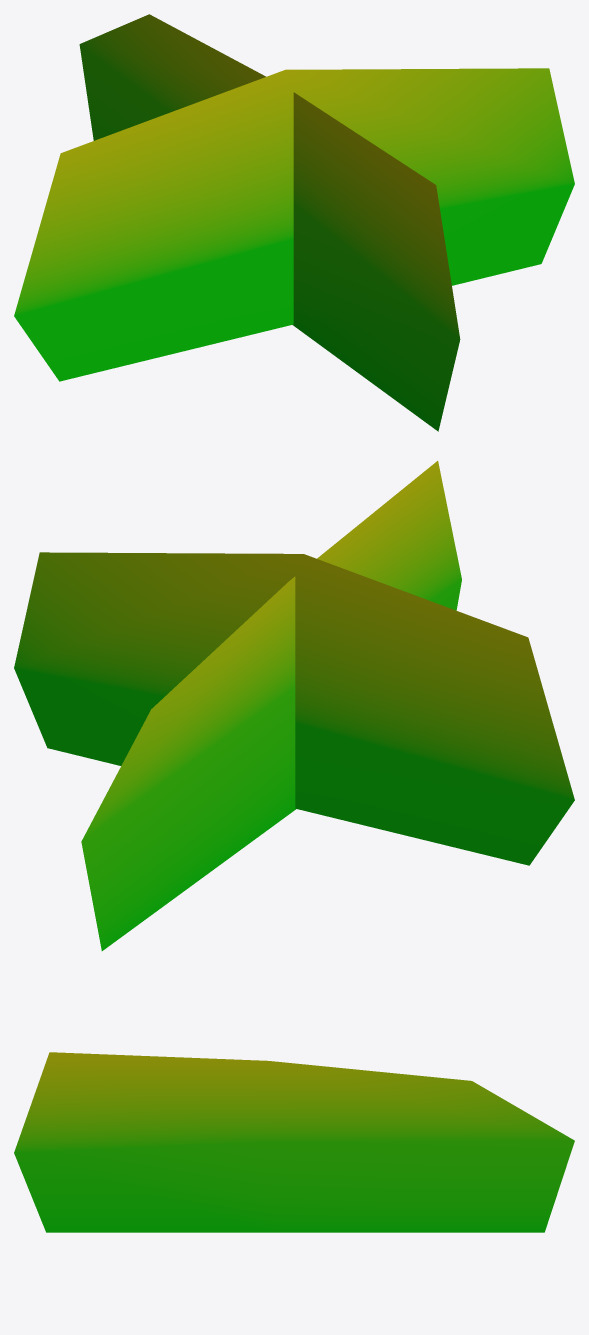
File: Lingonberry_LOD5_Var15.fbx
3 views of the same model, one above another, from view 1: azimuth 30°, elevation 25°; view 2: azimuth 150°, elevation 25°; view 3: azimuth 270°, elevation 25° (orthographic). The views are drawn at different scales.
Visible parts, largest first — view 1: _lu8w_Var15_LOD5; view 2: _lu8w_Var15_LOD5; view 3: _lu8w_Var15_LOD5.
Part boxes in pixels (x1=…): _lu8w_Var15_LOD5: x1=14, y1=14, x2=574, y2=431; _lu8w_Var15_LOD5: x1=14, y1=461, x2=574, y2=950; _lu8w_Var15_LOD5: x1=14, y1=1052, x2=574, y2=1232.
Bounding box in the file's own units: 36.46 × 16.02 × 42.86.
